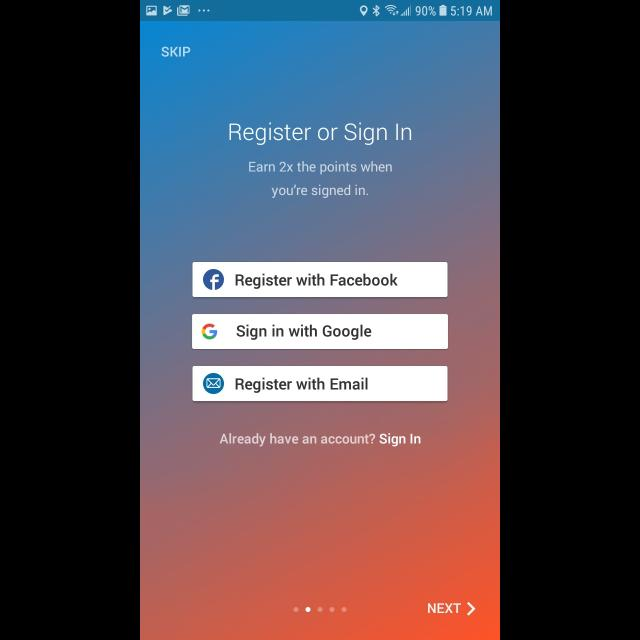icon: (466, 600, 476, 616)
pageindicator: (293, 607, 347, 613)
text: (250, 161, 392, 199), (229, 122, 411, 146), (220, 433, 420, 447), (428, 602, 462, 614), (162, 46, 190, 58)
textbutton: (192, 366, 448, 402), (192, 314, 448, 350), (192, 262, 448, 298)
uppertaskbar: (140, 1, 500, 22)
